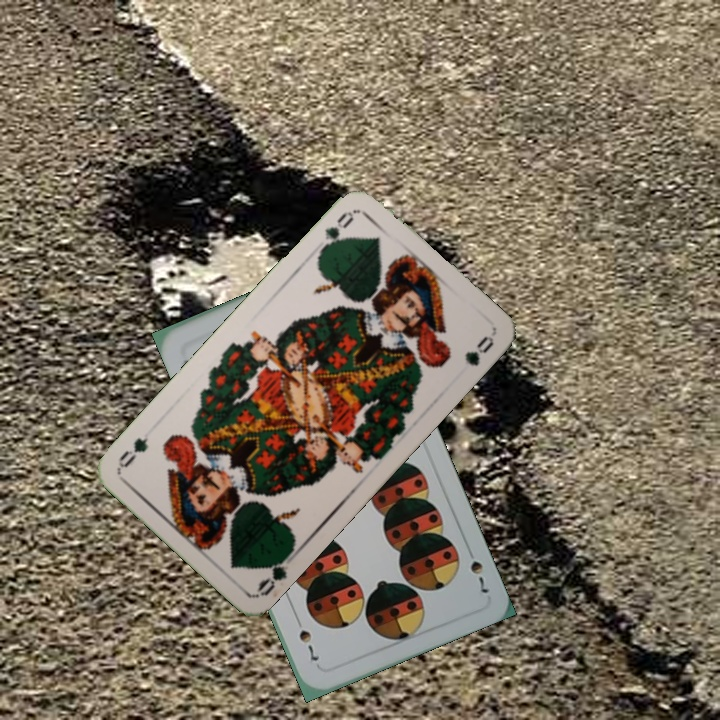GO: (254, 546, 298, 599), (315, 207, 358, 257)
S7: (462, 542, 491, 597)
